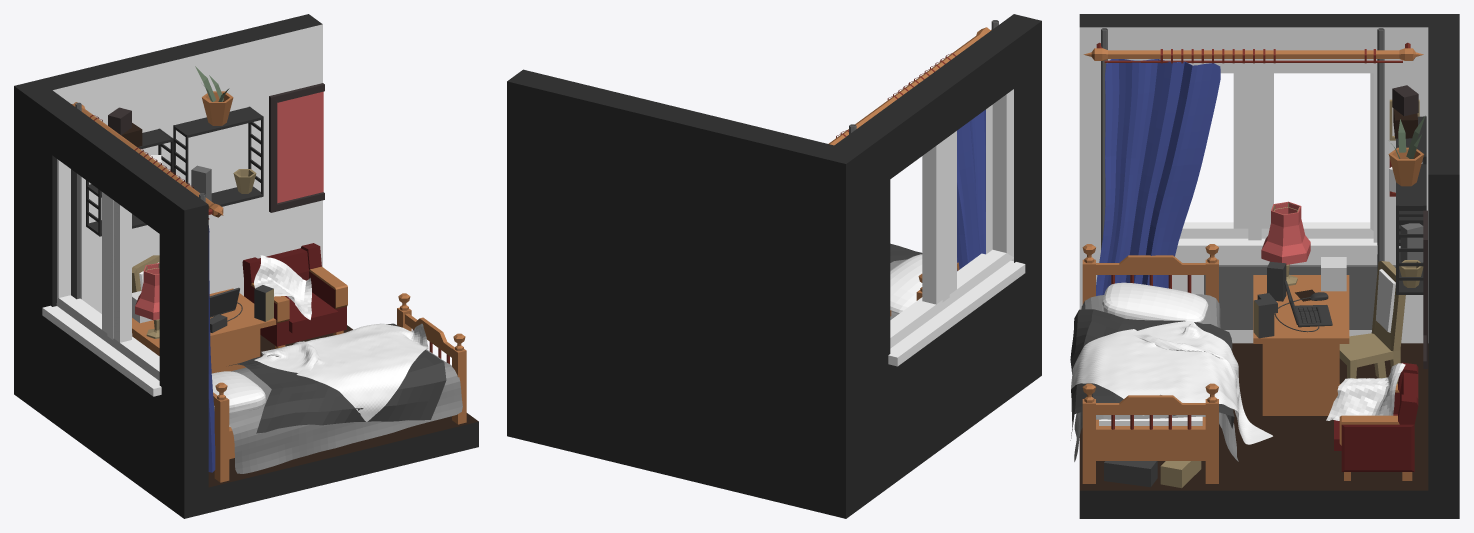
The model's file is isometric_room_new_3.glb.
The picture shows the model from 3 angles, left to right: view 1: azimuth 30°, elevation 25°; view 2: azimuth 150°, elevation 25°; view 3: azimuth 270°, elevation 25°; orthographic projection. The views are drawn at different scales.
Visible parts, largest first — view 1: Cube_2, Cube_0, Plane.007_0, Cube.023, Cube.011_0, Cube.007_0, Cube.037_1, Cube.021_0, Cube.001_0, Cube_1, Cube.010_0, Cube.037_0 (+17 smaller); view 2: Cube_2, Cube.011_0, Cylinder.006_0, Cube.010_0, Cube.012_0, Cube.008_0, Cube_0, Cylinder.004_0; view 3: Cube_2, Cube_0, Cylinder.006_0, Cube_1, Plane.007_0, Cube.001_0, Cube.011_0, Cube.021_0, Cube.016_0, Cube.003_0, Cube.009_0, Cube.023 (+31 smaller).
Boxes of the visible parts, <box> form: Cube_2: <box>14,14,478,518</box>; Cube_0: <box>53,24,322,335</box>; Plane.007_0: <box>254,323,428,421</box>; Cube.023: <box>229,323,446,433</box>; Cube.011_0: <box>56,159,159,380</box>; Cube.007_0: <box>229,349,462,473</box>; Cube.037_1: <box>277,91,323,203</box>; Cube.021_0: <box>242,243,346,346</box>; Cube.001_0: <box>132,288,276,373</box>; Cube_1: <box>208,325,478,487</box>; Cube.010_0: <box>42,298,161,396</box>; Cube.037_0: <box>269,83,324,212</box>; Cube_2: <box>507,14,1041,518</box>; Cube.011_0: <box>890,89,1013,348</box>; Cylinder.006_0: <box>957,109,985,271</box>; Cube.010_0: <box>888,253,1025,366</box>; Cube.012_0: <box>890,254,922,313</box>; Cube.008_0: <box>942,136,949,302</box>; Cube_0: <box>986,105,1013,261</box>; Cylinder.004_0: <box>828,27,991,145</box>; Cube_2: <box>1079,14,1459,518</box>; Cube_0: <box>1079,27,1428,343</box>; Cylinder.006_0: <box>1096,59,1220,295</box>; Cube_1: <box>1079,343,1428,490</box>; Plane.007_0: <box>1071,321,1272,444</box>; Cube.001_0: <box>1253,275,1349,415</box>; Cube.011_0: <box>1179,73,1373,238</box>; Cube.021_0: <box>1334,362,1418,471</box>; Cube.016_0: <box>1204,265,1395,329</box>; Cube.003_0: <box>1096,417,1205,460</box>; Cube.009_0: <box>1096,255,1205,414</box>; Cube.023: <box>1070,309,1234,440</box>.
Size of the model in its own units: 2.24 by 2.18 by 2.23.
